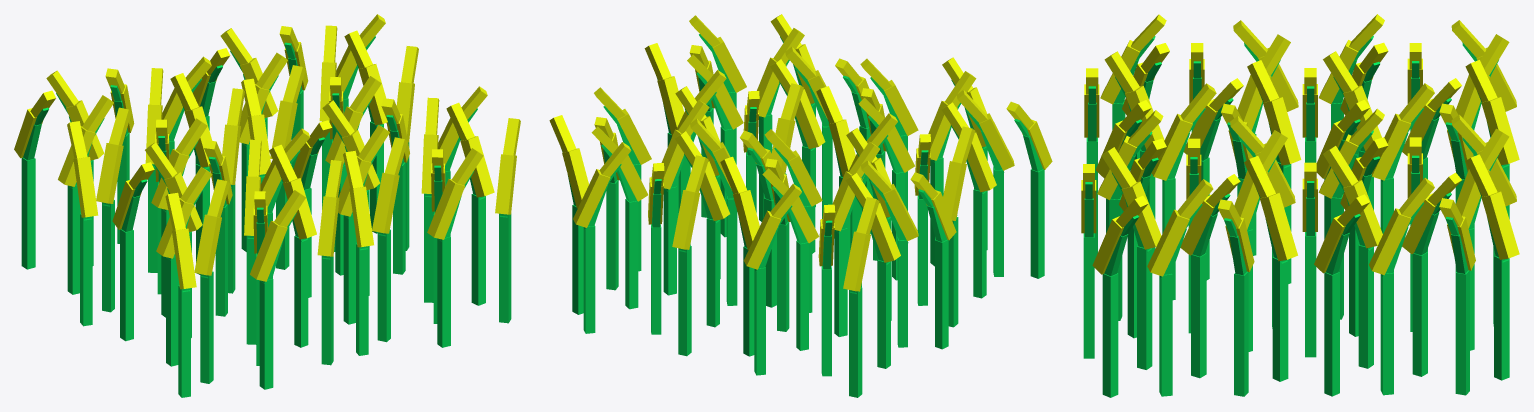
The model's file is GoldenrodFlowerPatch.fbx.
3 views of the same model, side by side, from view 1: azimuth 30°, elevation 25°; view 2: azimuth 150°, elevation 25°; view 3: azimuth 270°, elevation 25° (orthographic). The views are drawn at different scales.
Visible parts, largest first — view 1: Cube.003; view 2: Cube.003; view 3: Cube.003.
Part boxes in pixels (<box>): Cube.003: <box>14,14,520,397</box>; Cube.003: <box>549,14,1052,397</box>; Cube.003: <box>1081,14,1519,397</box>.
Bounding box in the file's own units: 208 × 104 × 197.
